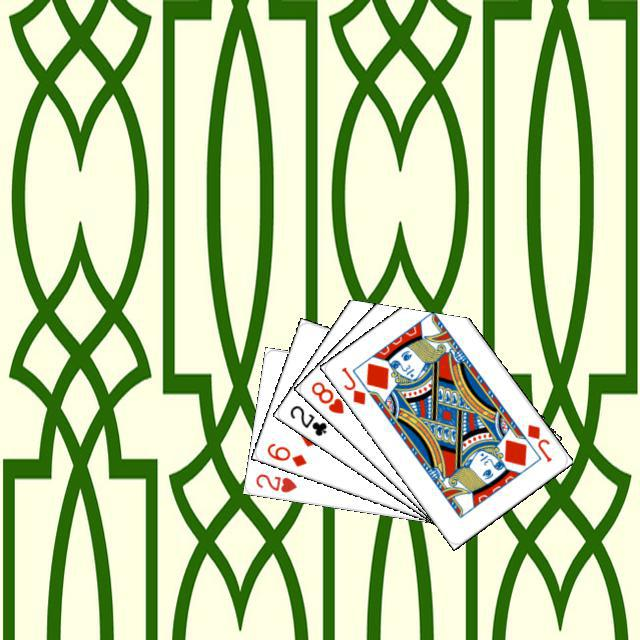2c: (285, 400, 329, 438)
2h: (251, 469, 298, 494)
6d: (262, 438, 308, 468)
8h: (306, 376, 346, 416)
Jd: (522, 419, 554, 464), (336, 362, 367, 407)
